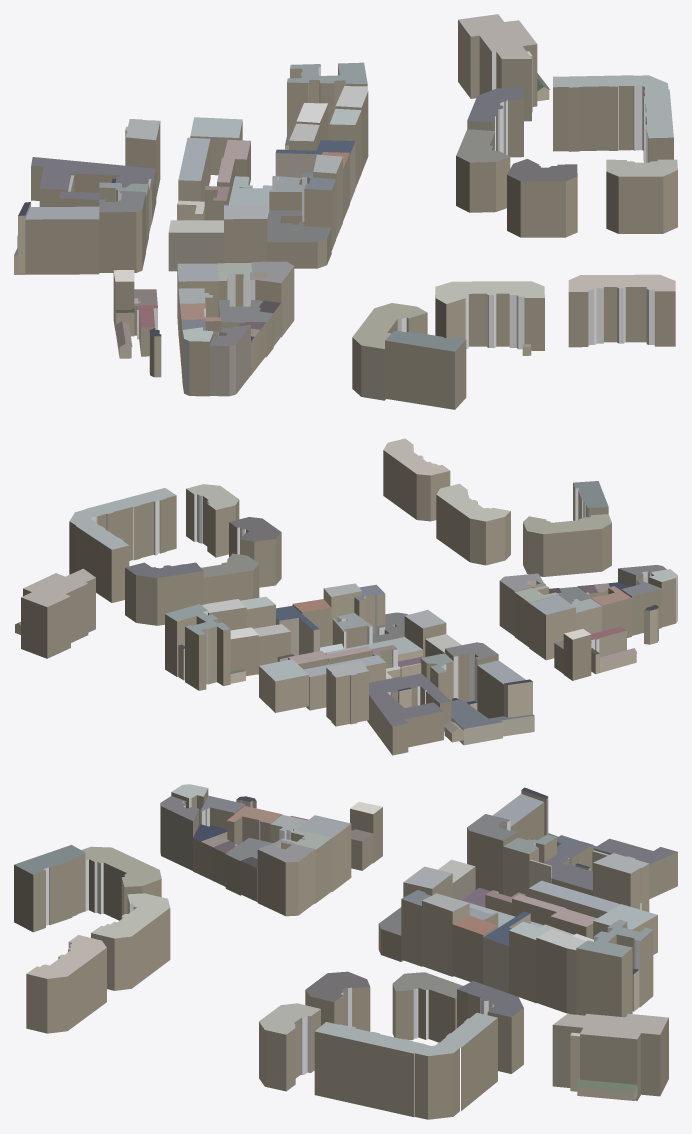
3 views of the same model, one above another, from view 1: azimuth 30°, elevation 25°; view 2: azimuth 150°, elevation 25°; view 3: azimuth 270°, elevation 25° (orthographic). The views are drawn at different scales.
Visible parts, largest first — view 1: tuile; view 2: tuile; view 3: tuile.
Boxes of the visible parts, box(x1,y1,x2,y2) form: tuile: box(14, 14, 677, 409); tuile: box(15, 438, 677, 755); tuile: box(14, 784, 677, 1119).
Size of the model in its own units: 268 by 33.77 by 254.
